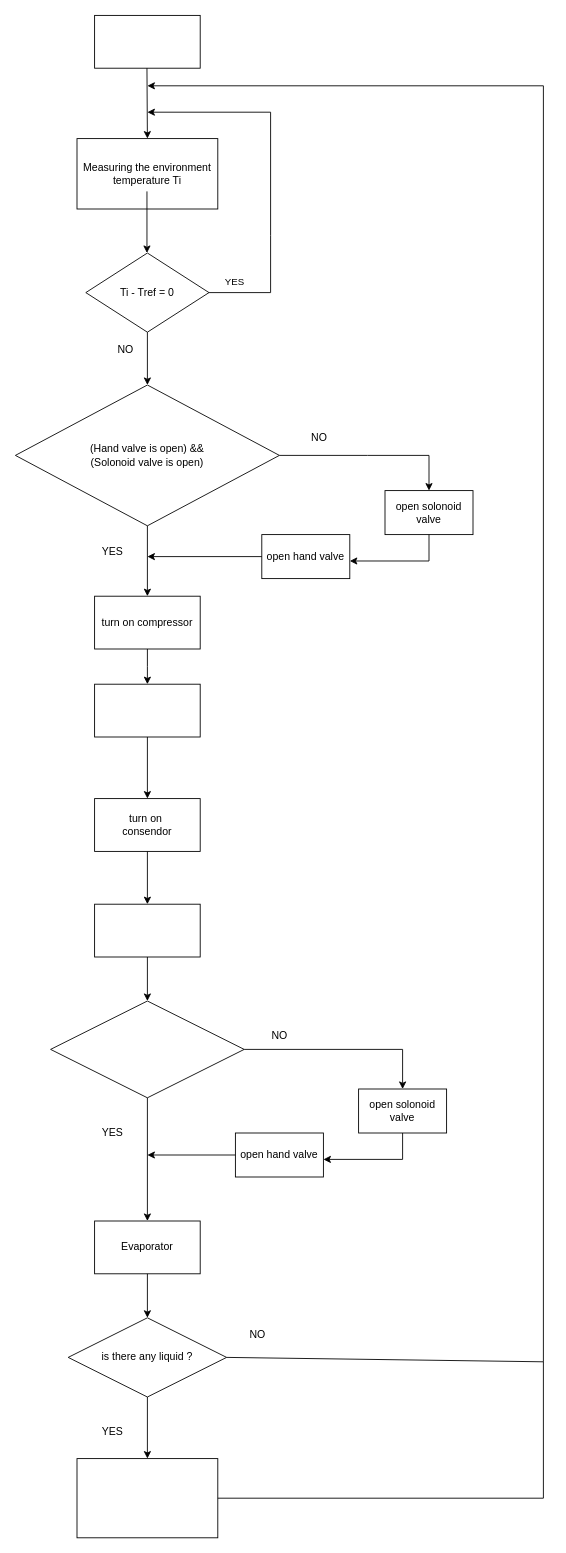
This 566x1553 diagram has some shape labels left out. Each missing label, with the box of its shape:
(Selonoid Valve is open) && (Hand Valve is open): (50, 1000, 244, 1098)
START: (94, 15, 200, 68)
turn on accumulator for gathering liquids: (76, 1458, 218, 1538)
turn on oil seprable: (94, 683, 200, 737)
turn on reciever: (94, 903, 200, 957)
